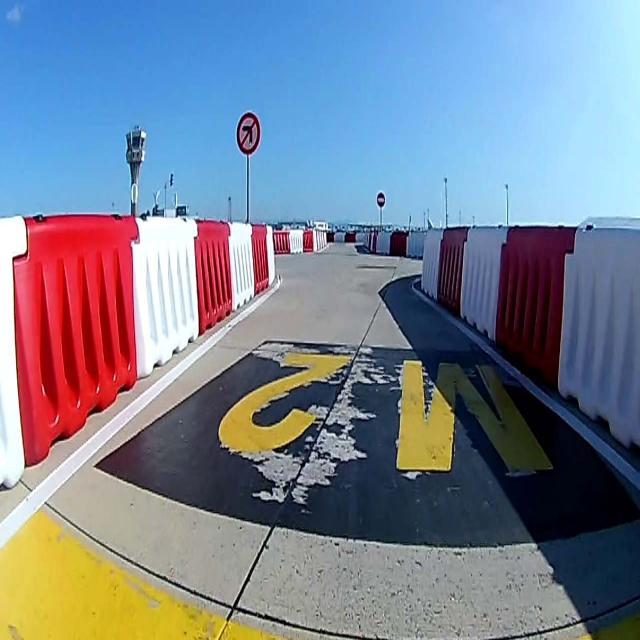soladonulmez: (236, 112, 260, 153)
